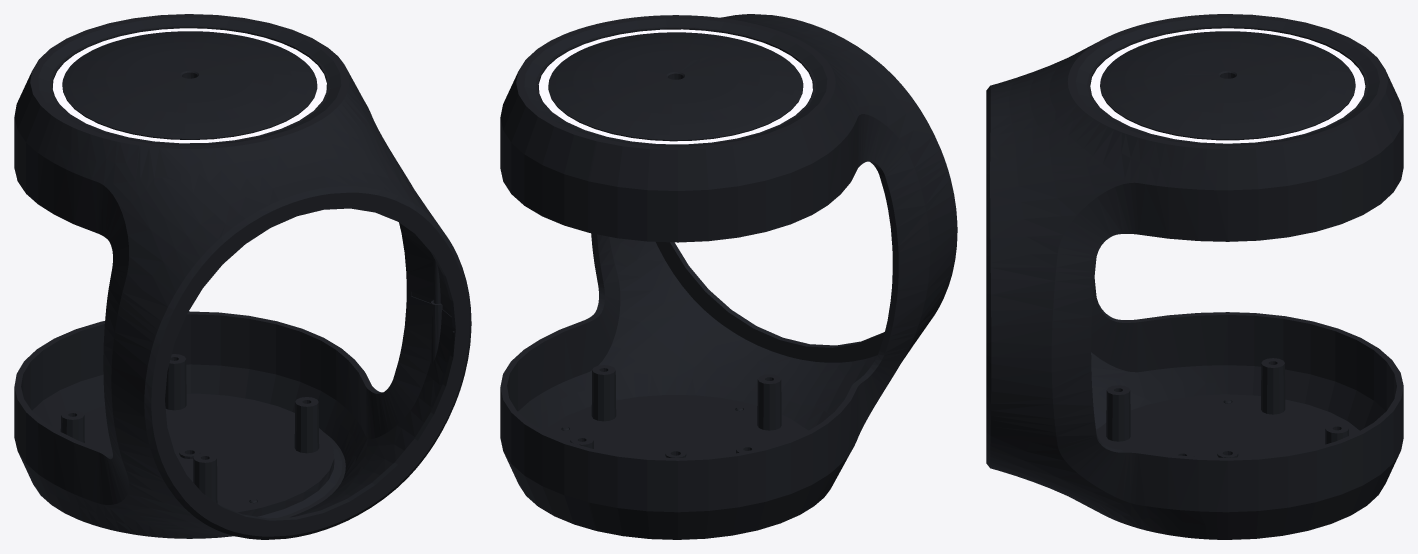
File: body_link2.glb
The picture shows the model from 3 angles, left to right: view 1: azimuth 30°, elevation 25°; view 2: azimuth 150°, elevation 25°; view 3: azimuth 270°, elevation 25°; orthographic projection.
Parts seen in each view (by area): view 1: body_pitch_link; view 2: body_pitch_link; view 3: body_pitch_link.
Boxes of the visible parts, x1=… form: body_pitch_link: x1=14, y1=14, x2=471, y2=539; body_pitch_link: x1=500, y1=14, x2=957, y2=539; body_pitch_link: x1=986, y1=14, x2=1403, y2=539.
Size of the model in its own units: 0.1464 by 0.1696 by 0.1587.
